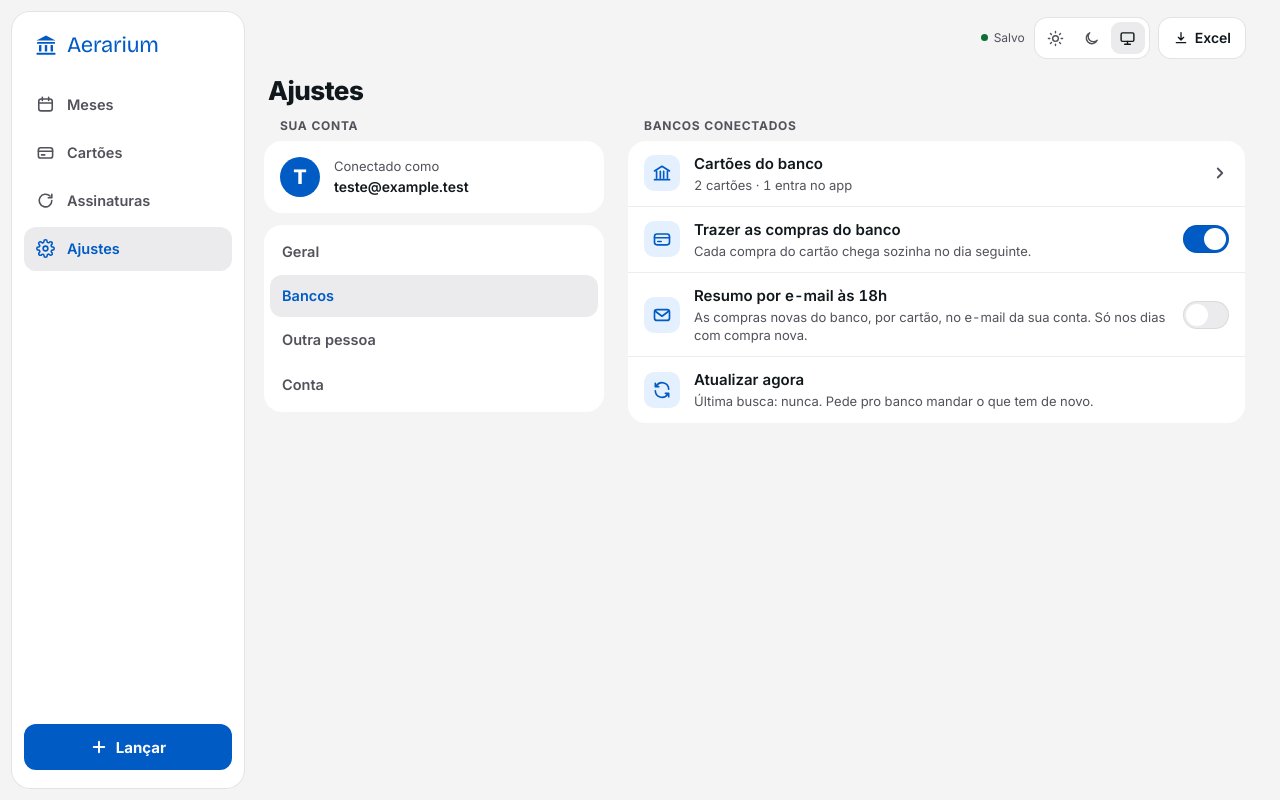
it: "Atualizar agora" pede pro banco e mostra como cada um está › pede a busca, olha o que tem e mostra a situação
Step 1. Click the button "Atualizar agora" → {"x": 662, "y": 390}, box [628,357,1245,423]
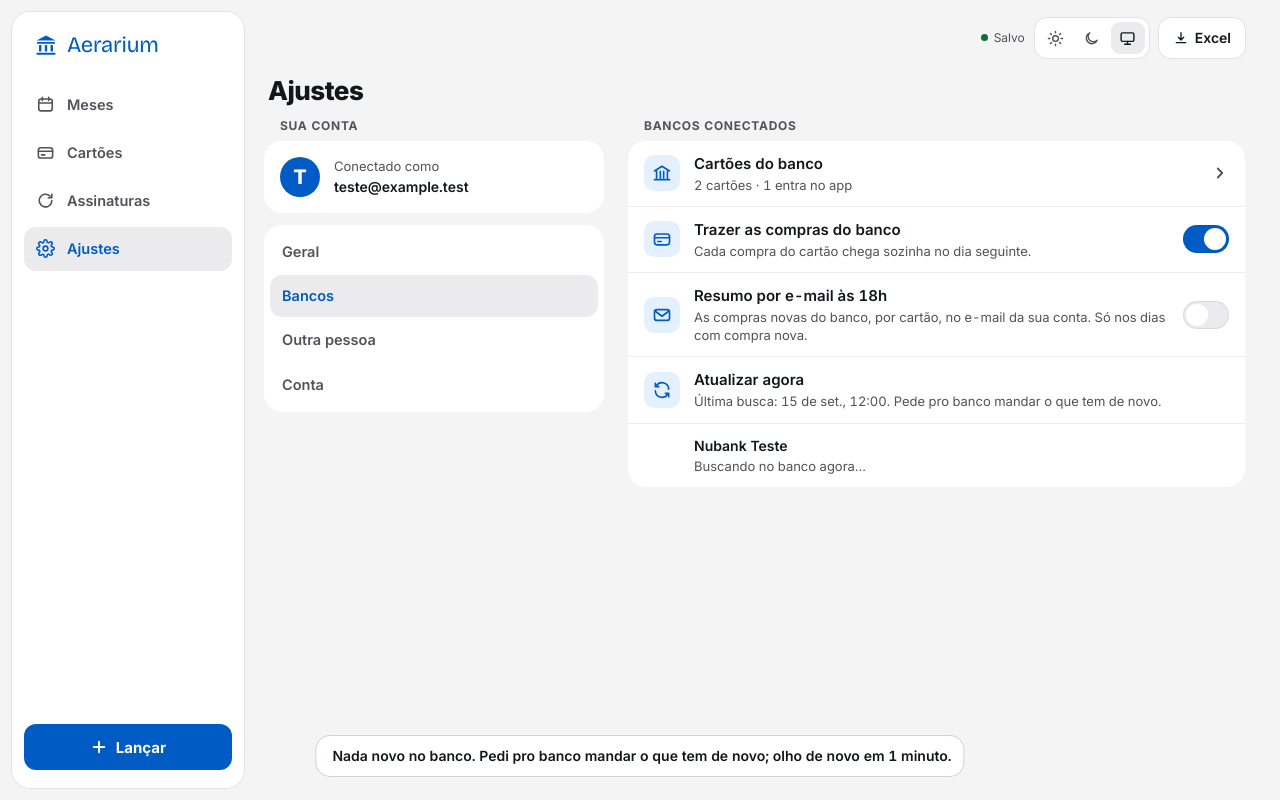
Expected: the text "Pedi pro banco mandar o que tem de novo" is shown, [332,747,952,764]
Expected: the text "Buscando no banco agora…" is shown, [694,458,866,474]
